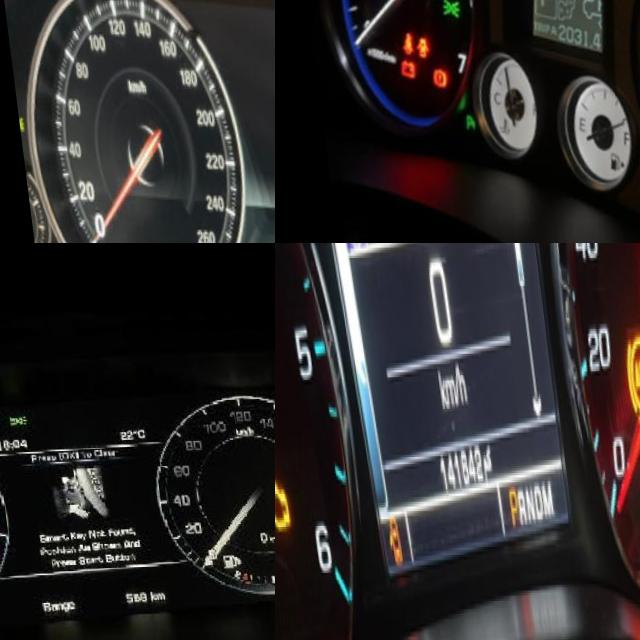Doors: (404, 35, 423, 61)
